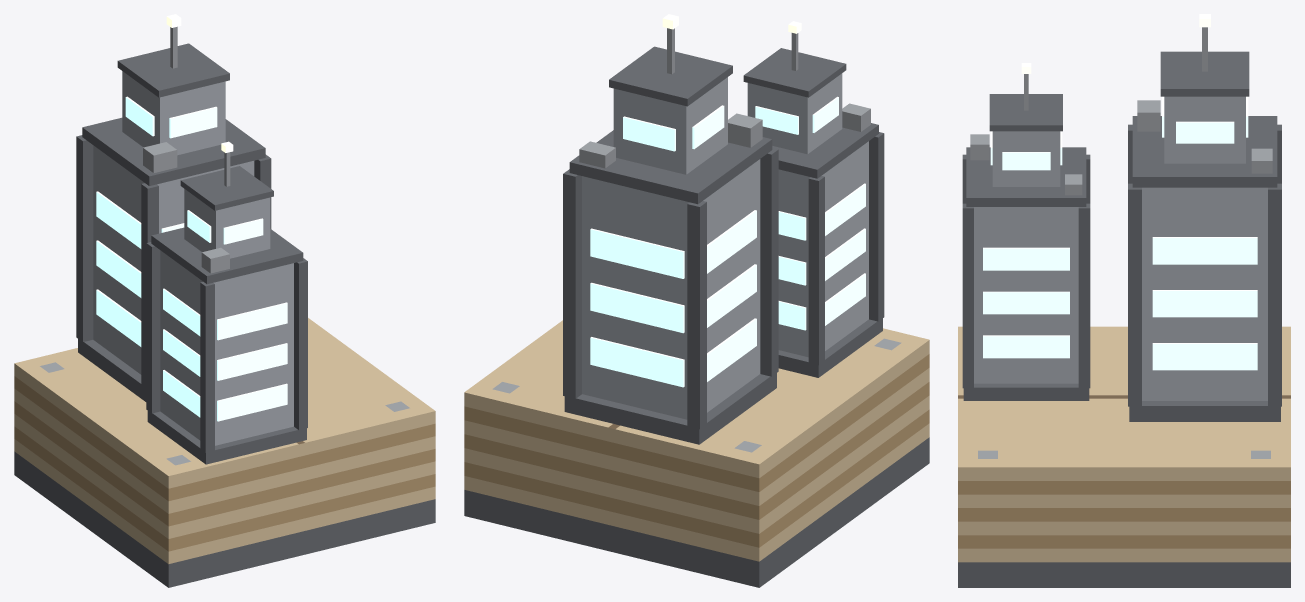
Rendered from PlywoodTile_Building2.fbx.
The picture shows the model from 3 angles, left to right: view 1: azimuth 30°, elevation 25°; view 2: azimuth 150°, elevation 25°; view 3: azimuth 270°, elevation 25°; orthographic projection. The views are drawn at different scales.
Parts seen in each view (by area): view 1: PlywoodTile_Building2; view 2: PlywoodTile_Building2; view 3: PlywoodTile_Building2.
Part boxes in pixels (x1,y1,x2,y2): PlywoodTile_Building2: [14, 14, 435, 587]; PlywoodTile_Building2: [464, 14, 929, 587]; PlywoodTile_Building2: [958, 14, 1290, 587].
Bounding box in the file's own units: 1 × 1.64 × 1.
